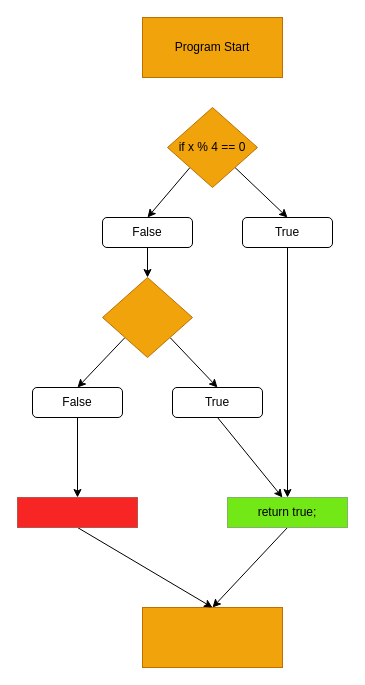
The diagram is 365 pixels wide and 685 high, and some of its shapes have lost their labels. The shapes that lost their labels are listed below. From the top down, each one's centre as x and y in pixels, then its label:
At pixel 147 317: "if x % 400 = 0".
At pixel 77 512: "return false;".
At pixel 212 637: "Program End".
